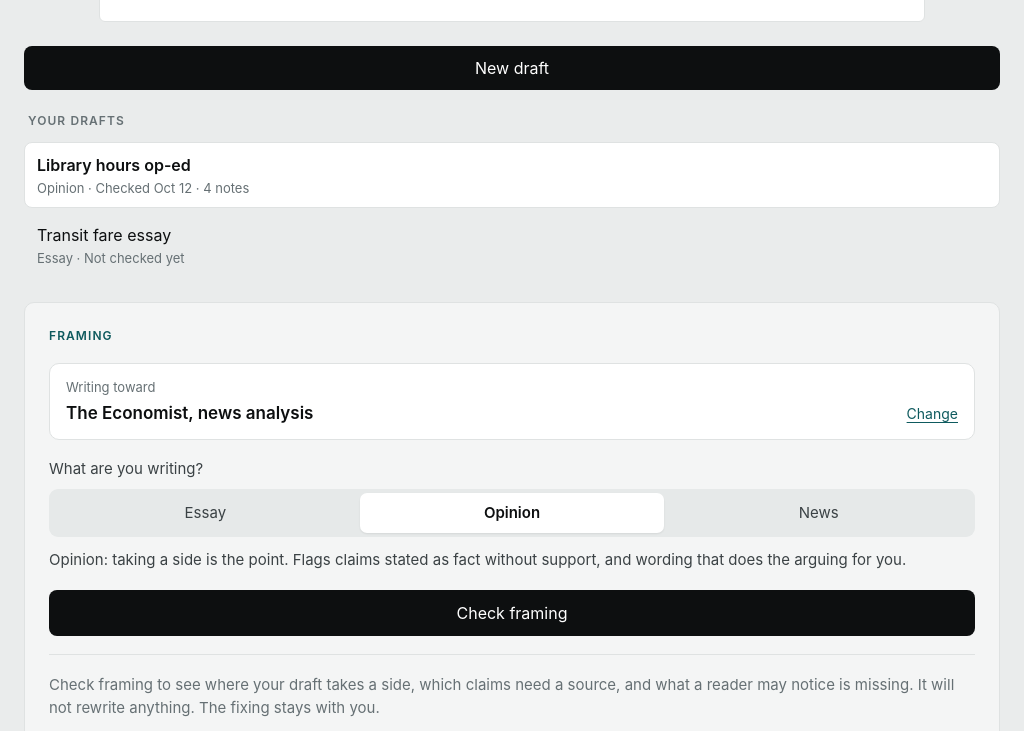
Scenario: with drafts › Check framing › shows the review read-only, marks the passage, and Edit draft goes back
The image size is (1024, 731).
(page scrolled)
Click the button "Check framing": point(512, 613) [49, 590, 975, 636]
(page scrolled)
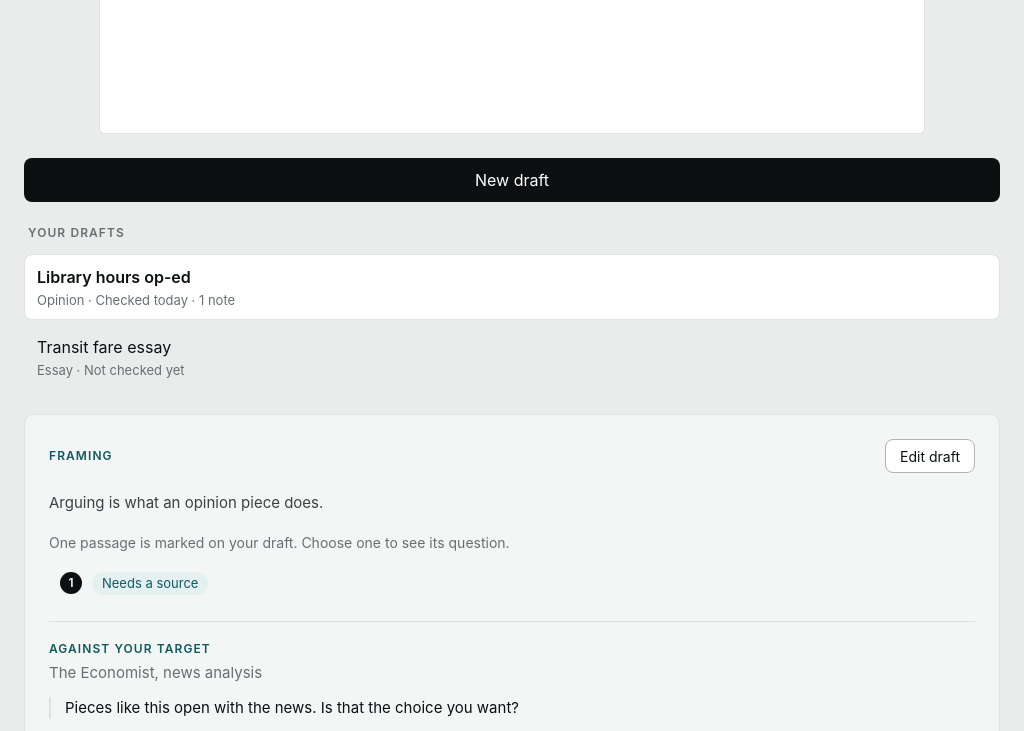
Expected: the text "Arguing is what an opinion piece does." is shown, [49, 493, 323, 512]
Expected: the text "One passage is marked on your draft" is shown, [49, 534, 510, 551]
Expected: the heading "Against your target" is shown, [49, 641, 211, 656]
Click the button named "Note 1: Needs a source": point(79, 595) [49, 563, 975, 603]
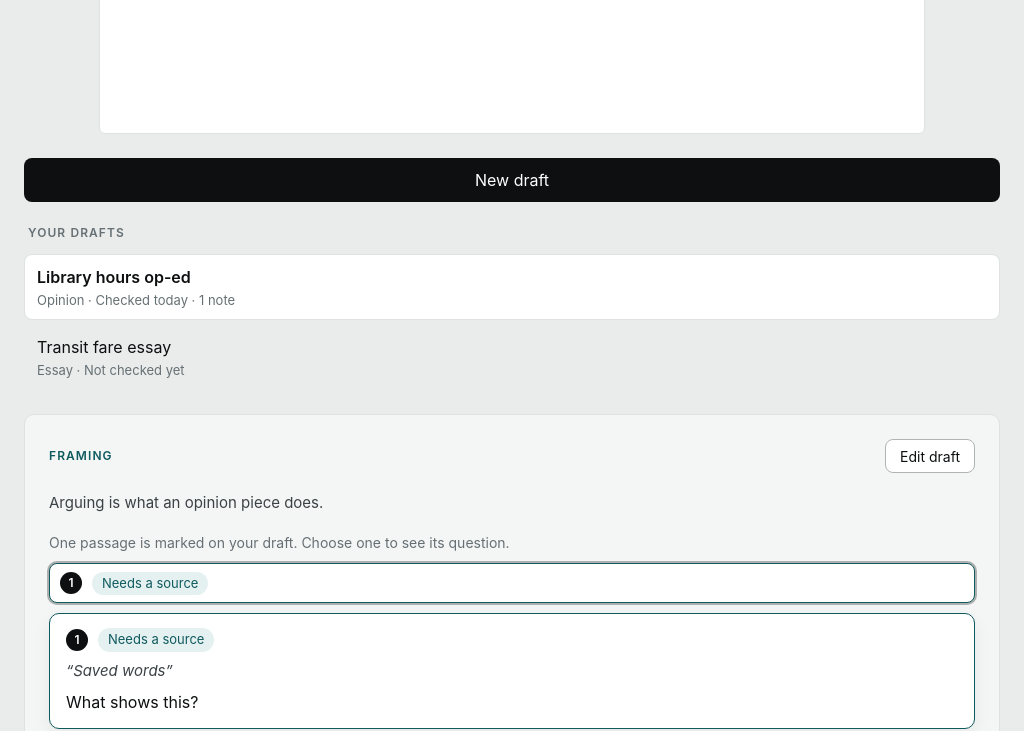
Expected: the text "Saved words" is shown, [73, 661, 166, 680]
Expected: the text "What shows this?" is shown, [66, 692, 198, 712]
Click the button named "Note 1: Needs a source": point(79, 595) [49, 563, 975, 603]
(page scrolled)
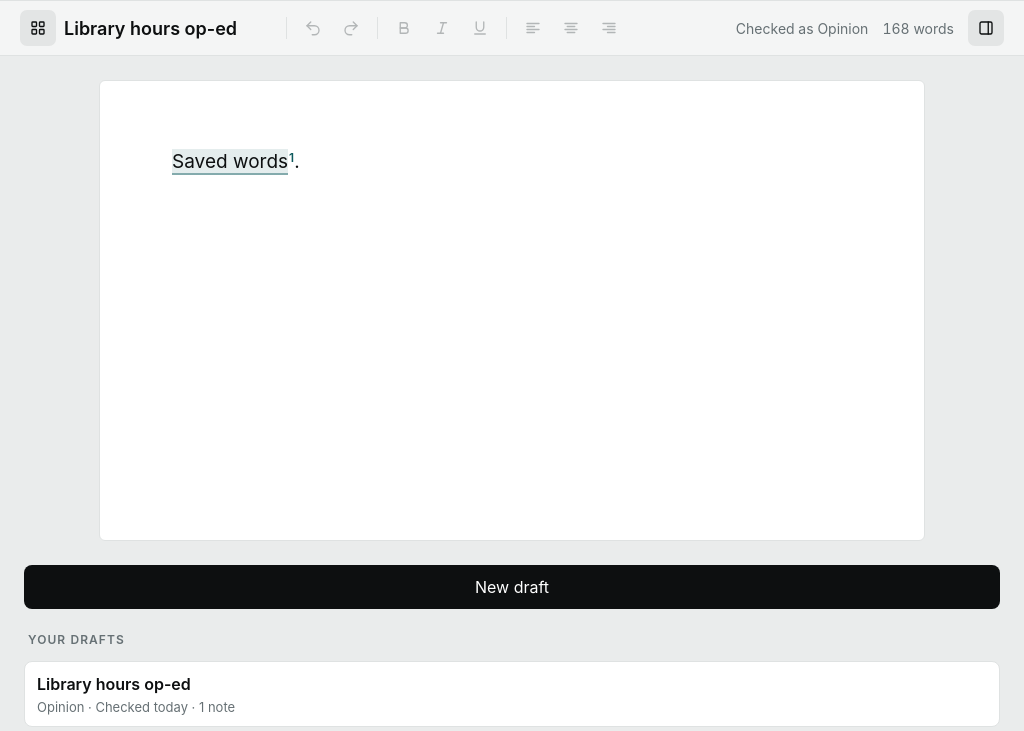
Expected: the text "What shows this?" is gone
// A click alone: jsdom cannot place ProseMirror's mousedown.
Click the text "Saved words": point(230, 162) [172, 149, 288, 175]
(page scrolled)
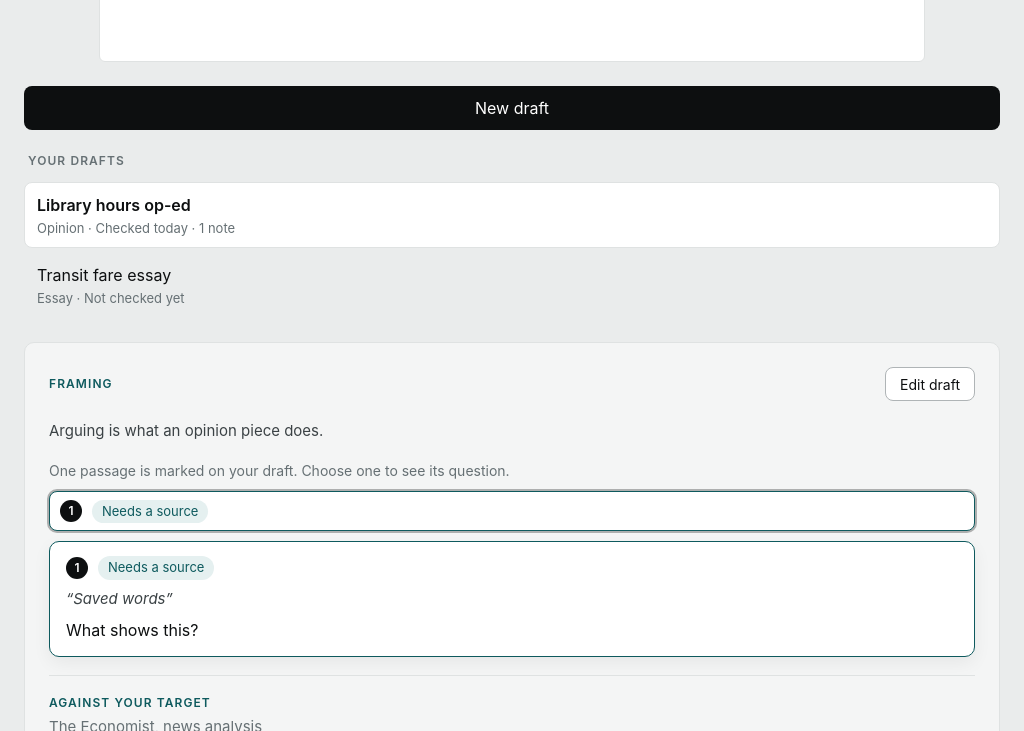
Expected: the text "What shows this?" is shown, [66, 620, 198, 640]
Click the button "Edit draft": point(930, 384) [885, 367, 975, 401]
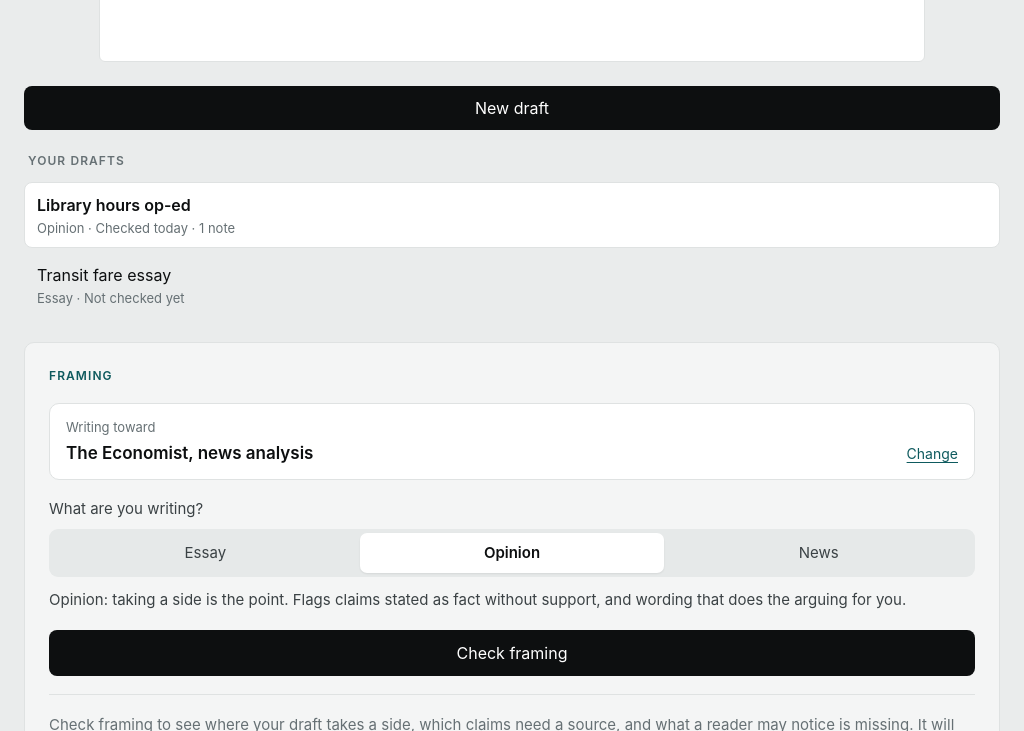
Expected: the button "Check framing" is shown, [49, 630, 975, 676]
